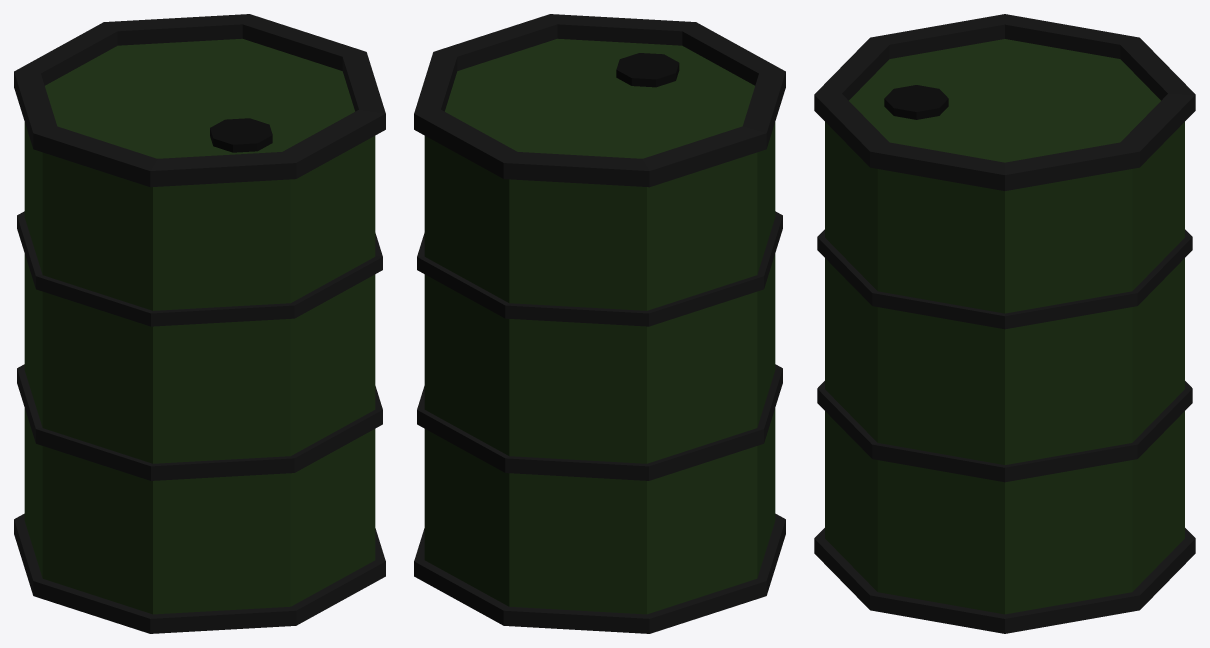
Rendered from Barril_Vida.FBX.
The picture shows the model from 3 angles, left to right: view 1: azimuth 30°, elevation 25°; view 2: azimuth 150°, elevation 25°; view 3: azimuth 270°, elevation 25°; orthographic projection.
Visible parts, largest first — view 1: Barril_Vida; view 2: Barril_Vida; view 3: Barril_Vida.
Part boxes in pixels (box(x1,y1,x2,y2)): Barril_Vida: box(14, 14, 385, 633); Barril_Vida: box(414, 14, 785, 633); Barril_Vida: box(814, 14, 1195, 633).
Size of the model in its own units: 240 by 320 by 240.
